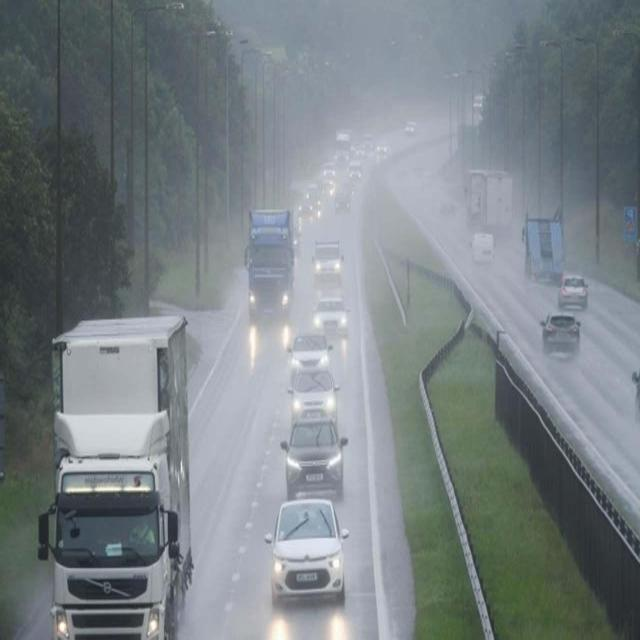Car: (264, 497, 350, 611), (279, 415, 349, 497), (284, 369, 340, 417), (284, 328, 334, 375), (539, 308, 583, 357), (314, 296, 351, 341), (313, 238, 345, 283), (559, 268, 589, 308), (468, 226, 498, 262), (333, 176, 355, 210), (434, 186, 456, 219), (311, 198, 327, 233), (470, 87, 486, 119), (400, 114, 421, 138), (296, 201, 314, 228), (352, 156, 366, 185), (324, 165, 338, 192), (362, 130, 377, 152), (377, 138, 391, 160), (305, 184, 320, 204)
Truck: (35, 264, 202, 640), (242, 202, 300, 326), (522, 207, 572, 280), (469, 162, 514, 242), (334, 124, 353, 172)
